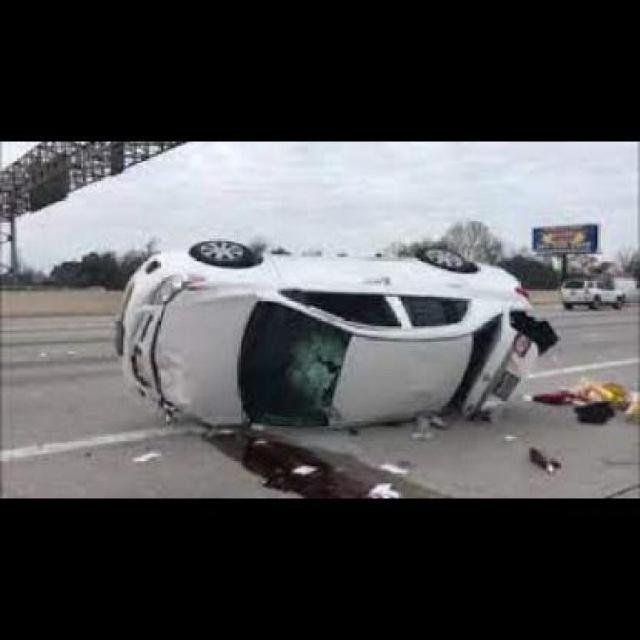accident: (106, 234, 539, 432)
